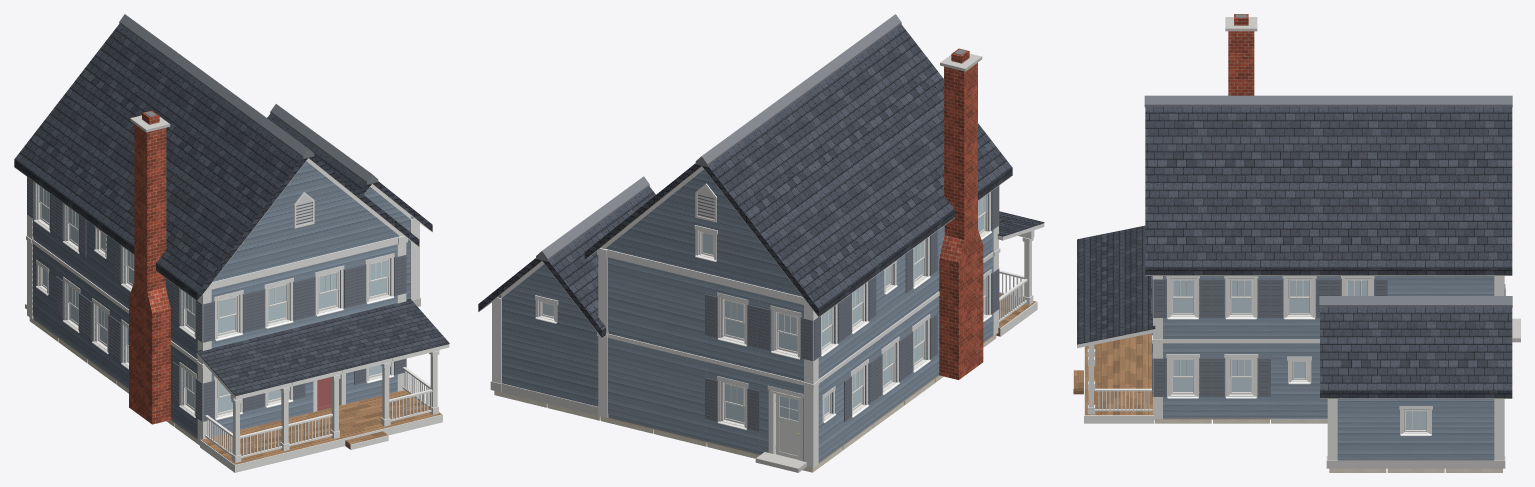
The model's file is building_assembled.glb.
3 renders of one model, left to right at view 1: azimuth 30°, elevation 25°; view 2: azimuth 150°, elevation 25°; view 3: azimuth 270°, elevation 25°, orthographic. The views are drawn at different scales.
Visible parts, largest first — view 1: building_shingle, building_siding, building_trim, building_brick, building_shutter, building_deck, building_glass, building_ridge, building_shutter_dark, building_sash, building_frame, building_plaster (+1 smaller); view 2: building_siding, building_shingle, building_trim, building_brick, building_shutter, building_glass, building_ridge, building_frame, building_plaster, building_shutter_dark, building_sash, building_concrete; view 3: building_shingle, building_siding, building_trim, building_ridge, building_shutter, building_deck, building_glass, building_plaster, building_concrete, building_sash, building_brick, building_shutter_dark (+1 smaller).
Part boxes in pixels (box(x1,y1,x2,y2)): building_shingle: box(14, 23, 449, 396); building_siding: box(32, 161, 414, 438); building_trim: box(26, 158, 449, 472); building_brick: box(129, 110, 171, 424); building_shutter: box(27, 177, 406, 421); building_deck: box(201, 390, 441, 464); building_glass: box(40, 186, 387, 412); building_ridge: box(119, 14, 378, 184); building_shutter_dark: box(27, 179, 404, 418); building_sash: box(39, 185, 388, 414); building_frame: box(37, 185, 390, 411); building_plaster: box(14, 158, 432, 445); building_siding: box(498, 169, 992, 462); building_shingle: box(478, 24, 1044, 337); building_trim: box(492, 167, 1044, 467); building_brick: box(939, 48, 983, 379); building_shutter: box(705, 186, 999, 431); building_glass: box(543, 196, 985, 422); building_ridge: box(536, 14, 901, 261); building_frame: box(539, 194, 987, 460); building_plaster: box(478, 166, 1012, 472); building_shutter_dark: box(697, 189, 998, 428); building_sash: box(541, 195, 986, 424); building_concrete: box(490, 53, 982, 472); building_shingle: box(1077, 106, 1512, 398); building_siding: box(1163, 276, 1494, 460); building_trim: box(1073, 276, 1504, 460); building_ridge: box(1144, 95, 1512, 307); building_shutter: box(1152, 276, 1505, 396); building_deck: box(1074, 333, 1153, 415); building_glass: box(1173, 280, 1426, 429); building_plaster: box(1145, 275, 1512, 472); building_concrete: box(1225, 17, 1520, 468); building_sash: box(1172, 279, 1427, 431); building_brick: box(1228, 14, 1254, 95); building_shutter_dark: box(1152, 276, 1505, 394).
Bounding box in the file's own units: 13.25 × 11.57 × 15.38.
22 materials, 5 textured.
